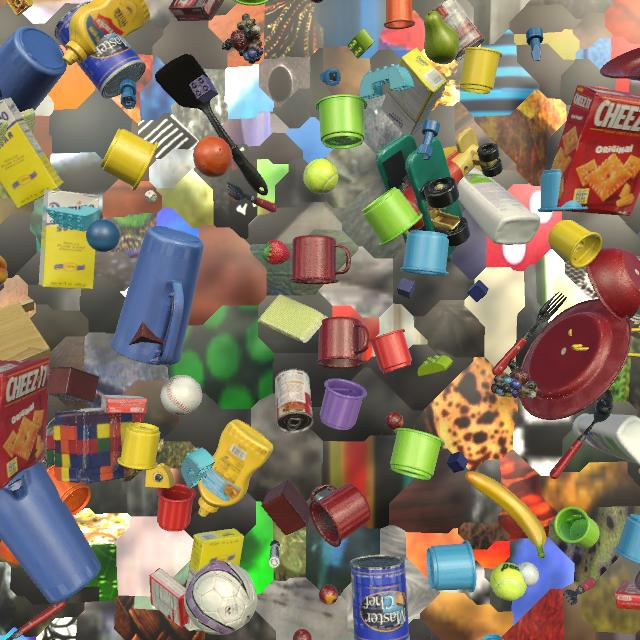ycb_002_master_chef_can: (54, 1, 146, 98), (350, 555, 410, 640)
ycb_003_cracker_box: (551, 85, 640, 216), (0, 358, 50, 490)
ycb_004_sugar_box: (0, 97, 64, 208), (184, 529, 244, 631), (39, 189, 99, 289), (381, 48, 447, 136)
ycb_005_tomato_soup_can: (432, 0, 485, 61), (275, 368, 313, 433), (629, 290, 640, 323)
ycb_006_mustard_bottle: (198, 419, 273, 517), (63, 0, 150, 65)
ycb_008_pudding_box: (169, 0, 224, 21)
ycb_009_gelatin_box: (149, 568, 189, 627), (101, 395, 147, 414), (615, 580, 640, 610)
ycb_011_banana: (465, 471, 546, 558)
ycb_012_strawberry: (262, 240, 291, 265)
ycb_015_peach: (0, 256, 8, 285)
ycb_016_pear: (424, 11, 459, 64)
ycb_017_orange: (193, 136, 233, 178), (0, 540, 21, 566)
